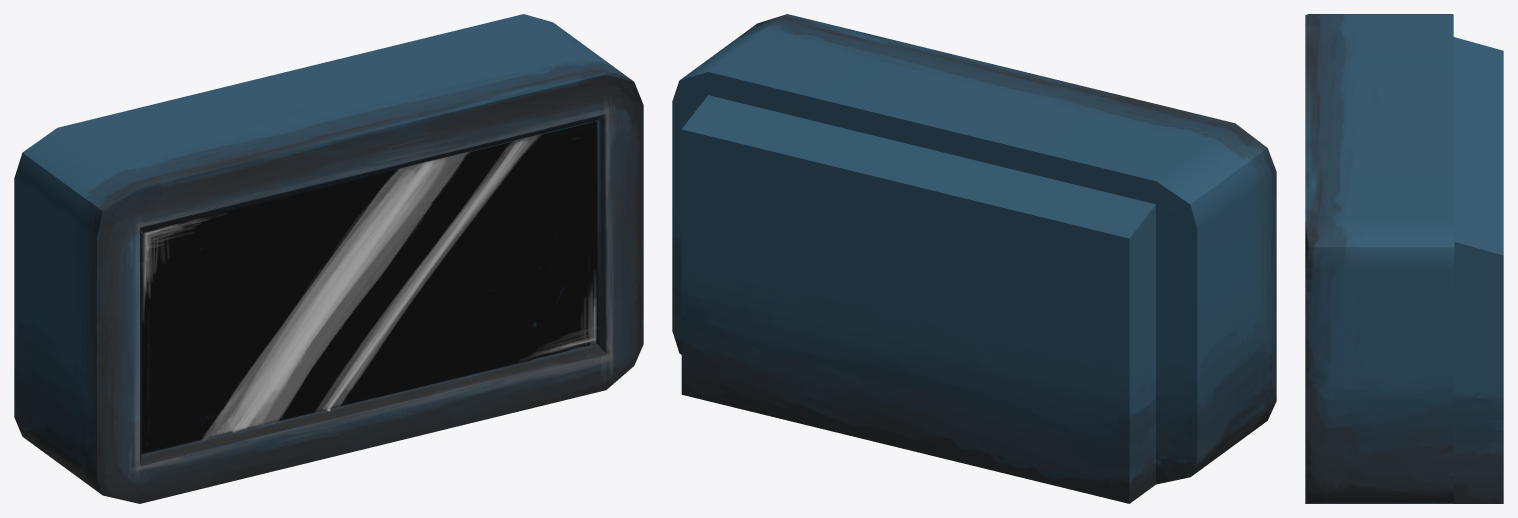
Rendered from monitor.fbx.
3 renders of one model, left to right at view 1: azimuth 30°, elevation 25°; view 2: azimuth 150°, elevation 25°; view 3: azimuth 270°, elevation 25°, orthographic. The views are drawn at different scales.
Parts seen in each view (by area): view 1: monitor2; view 2: monitor2; view 3: monitor2.
Boxes of the visible parts, x1,y1,x2,y2 form: monitor2: [14, 14, 643, 503]; monitor2: [672, 14, 1276, 503]; monitor2: [1305, 14, 1503, 503].
Bounding box in the file's own units: 57.79 × 31.91 × 20.18.
Materials: 1 (1 with a texture image).
